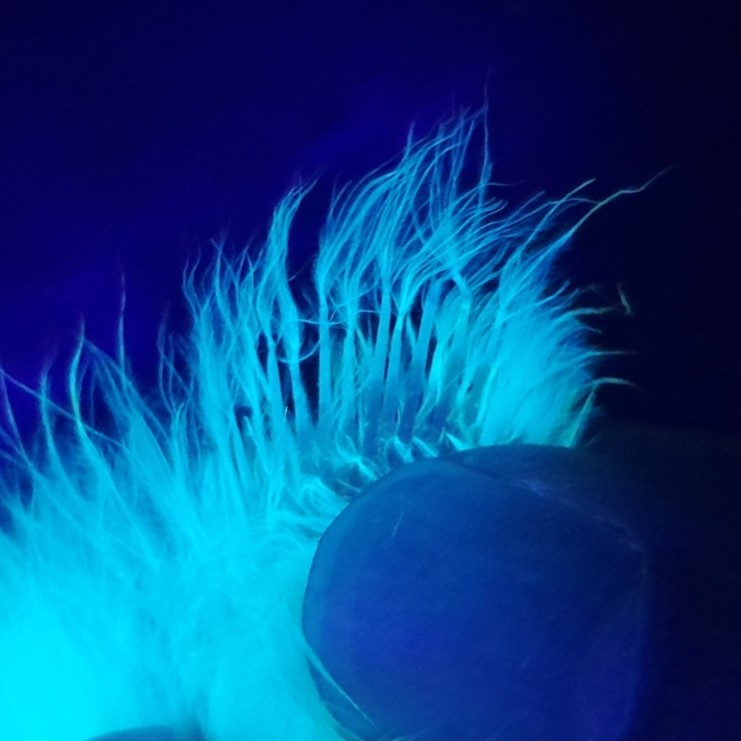male: (235, 269, 526, 488)
